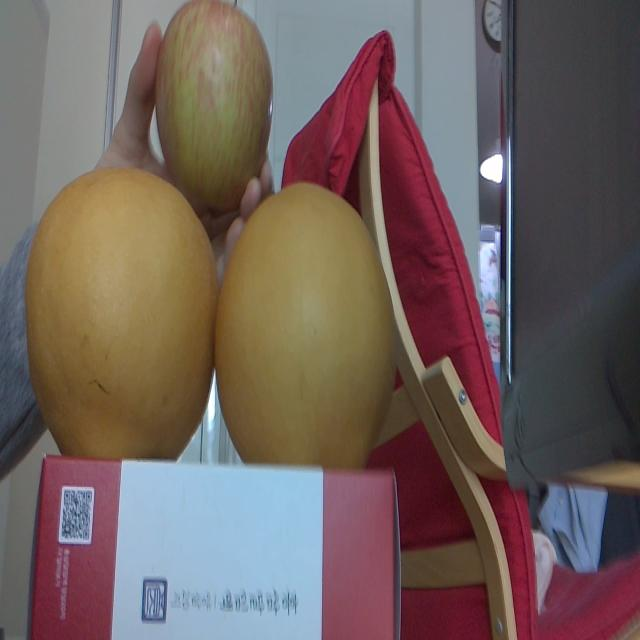apple: (156, 0, 272, 187)
pear: (22, 172, 216, 460), (214, 187, 393, 471)
